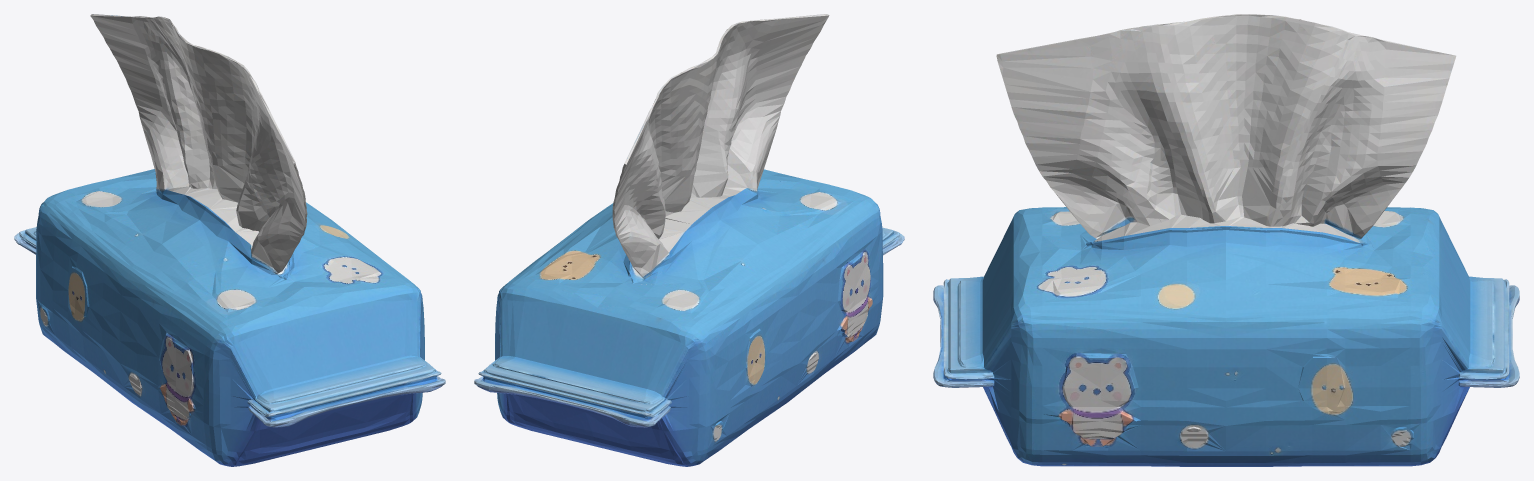
The model's file is tissuebox.glb.
The picture shows the model from 3 angles, left to right: view 1: azimuth 30°, elevation 25°; view 2: azimuth 150°, elevation 25°; view 3: azimuth 270°, elevation 25°; orthographic projection. The views are drawn at different scales.
Parts seen in each view (by area): view 1: tripo_node_84451804-1e9a-420a-9809-1c4f06fbd36c; view 2: tripo_node_84451804-1e9a-420a-9809-1c4f06fbd36c; view 3: tripo_node_84451804-1e9a-420a-9809-1c4f06fbd36c.
Boxes of the visible parts, bbox=[...] form: tripo_node_84451804-1e9a-420a-9809-1c4f06fbd36c: bbox=[14, 14, 445, 466]; tripo_node_84451804-1e9a-420a-9809-1c4f06fbd36c: bbox=[474, 14, 904, 466]; tripo_node_84451804-1e9a-420a-9809-1c4f06fbd36c: bbox=[933, 14, 1519, 466].
Size of the model in its own units: 0.496 by 0.7303 by 0.9978.
Materials: 1 (1 with a texture image).
